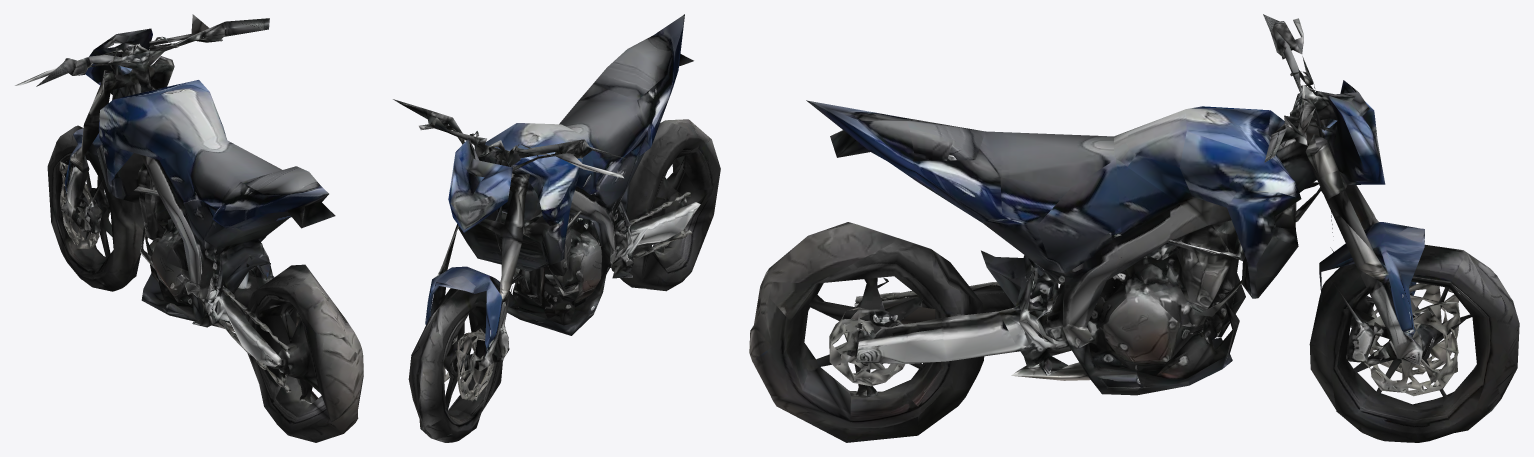
Rendered from roadster_loin.glb.
3 renders of one model, left to right at view 1: azimuth 30°, elevation 25°; view 2: azimuth 150°, elevation 25°; view 3: azimuth 270°, elevation 25°, orthographic. The views are drawn at different scales.
Parts seen in each view (by area): view 1: body, wheel_f, wheel_r; view 2: body, wheel_f, wheel_r; view 3: body, wheel_f, wheel_r.
Part boxes in pixels (x1,y1,x2,y2): body: [15, 14, 363, 442]; wheel_f: [47, 125, 144, 291]; wheel_r: [223, 262, 320, 426]; body: [393, 14, 720, 381]; wheel_f: [408, 288, 505, 442]; wheel_r: [611, 148, 689, 291]; body: [749, 14, 1460, 442]; wheel_f: [1309, 230, 1519, 442]; wheel_r: [808, 250, 1015, 434].
Size of the model in its own units: 1.01 by 1.12 by 2.1.
1 material, 1 textured.
